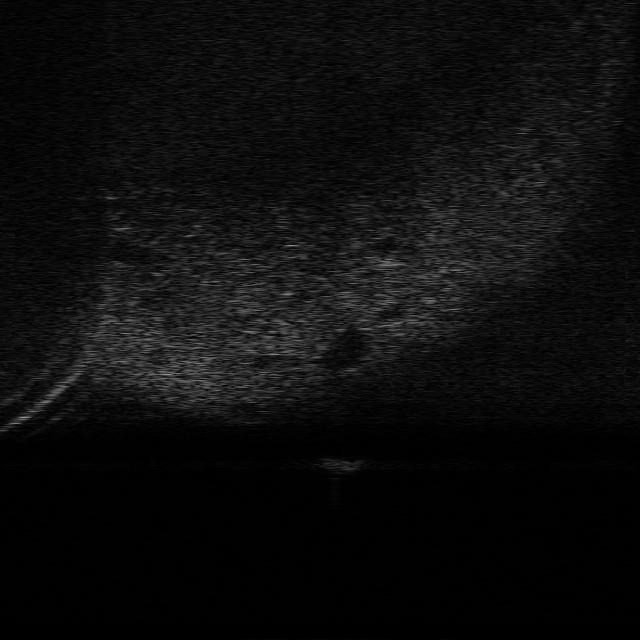cube: (315, 453, 367, 474)
